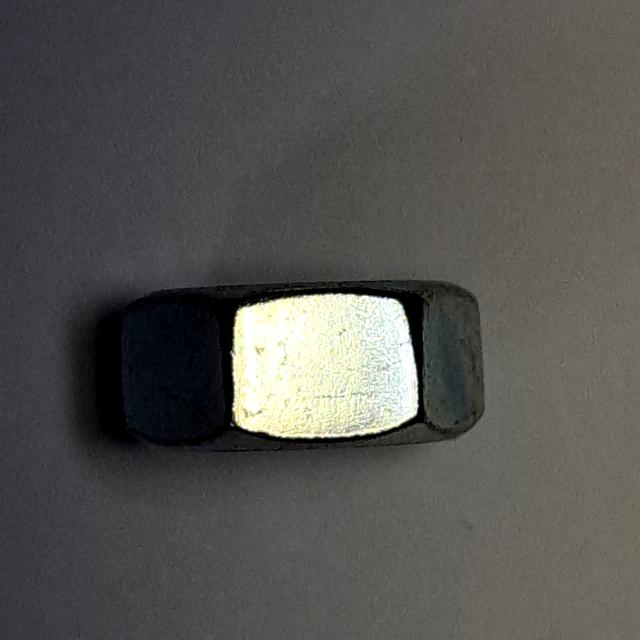Side_Excellent: (107, 267, 501, 478)
